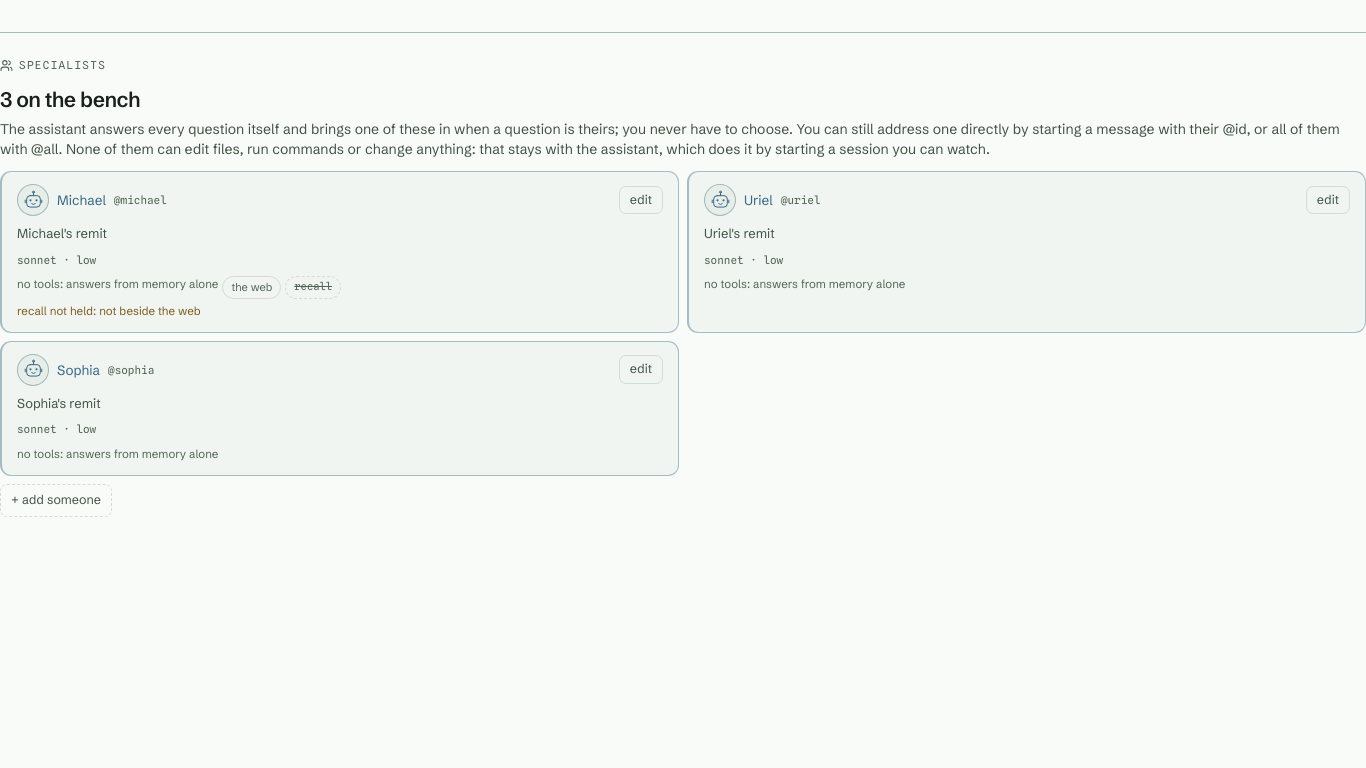
it: CouncilPanel (C-31) › opens the form where the card was, not under the whole roster
The width and height of the screenshot is (1366, 768).
Click the button "edit" in the row of "@uriel": [1328, 200] box 1306,186 -> 1350,214
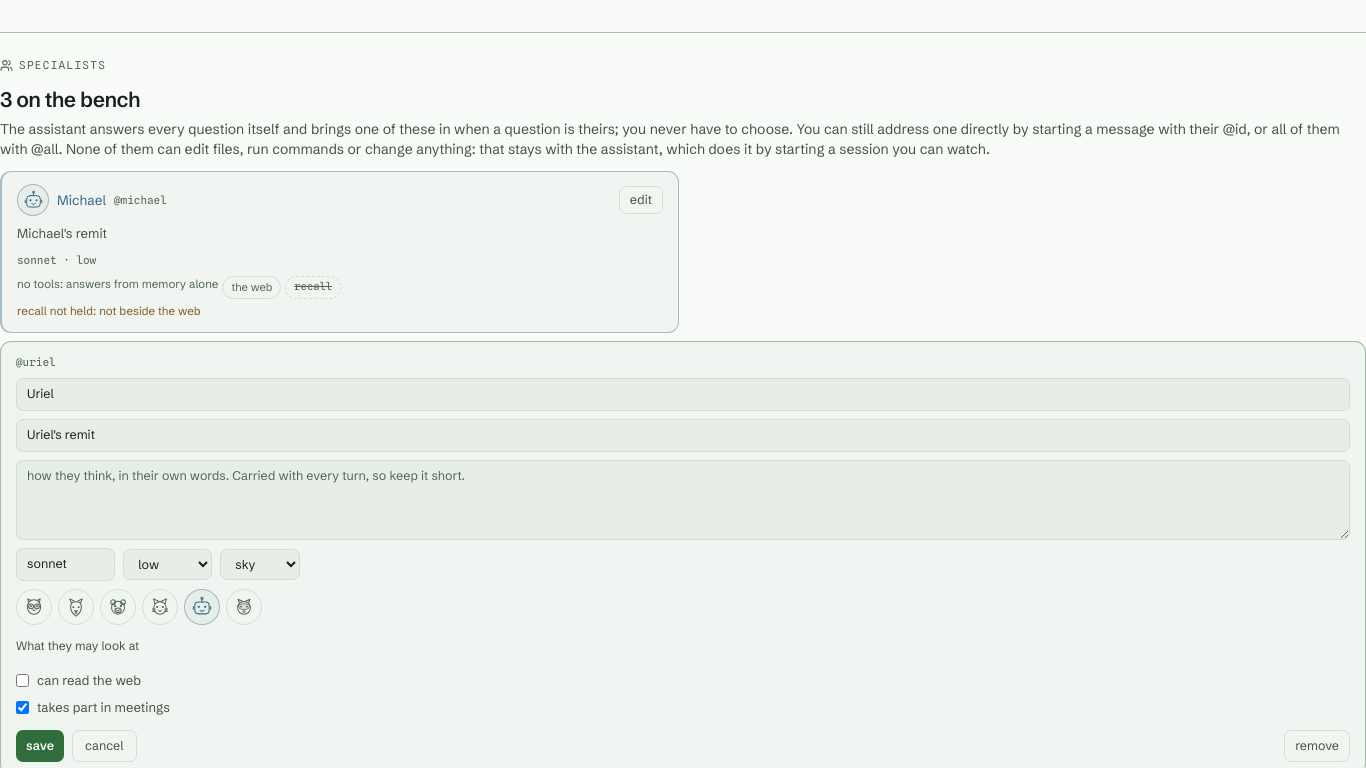
Check: the number of fields showing "Uriel" is 1, box 16,378 -> 1350,411
